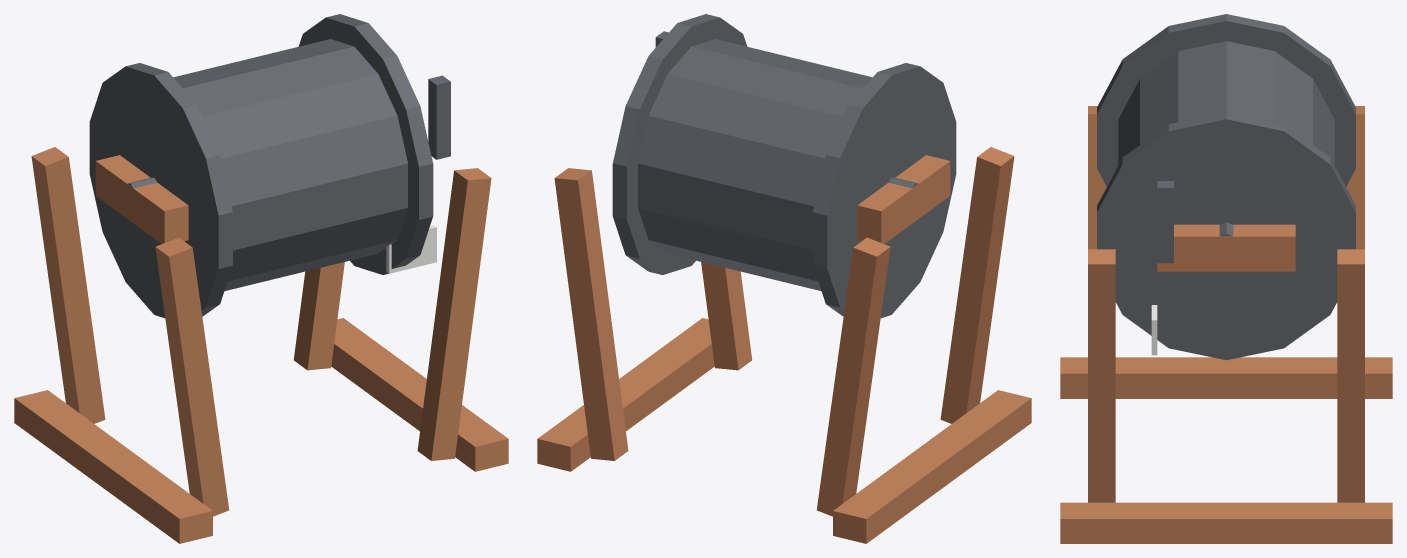
Rendered from shipyard-and-dry-dock-shipyard-and-dry-dock-cable-reel-6d1adec5__37952.glb.
3 renders of one model, left to right at view 1: azimuth 30°, elevation 25°; view 2: azimuth 150°, elevation 25°; view 3: azimuth 270°, elevation 25°, orthographic.
Parts seen in each view (by area): view 1: reel-drum, shipyard-and-dry-dock-cable-reel-stand; view 2: reel-drum, shipyard-and-dry-dock-cable-reel-stand; view 3: reel-drum, shipyard-and-dry-dock-cable-reel-stand.
Part boxes in pixels (left/top/right/bottom): reel-drum: left=89, top=14, right=450, bottom=318; shipyard-and-dry-dock-cable-reel-stand: left=14, top=147, right=508, bottom=543; reel-drum: left=612, top=14, right=956, bottom=318; shipyard-and-dry-dock-cable-reel-stand: left=537, top=147, right=1031, bottom=543; reel-drum: left=1097, top=14, right=1355, bottom=360; shipyard-and-dry-dock-cable-reel-stand: left=1060, top=106, right=1392, bottom=543.
Bounding box in the file's own units: 1.38 × 1.58 × 1.2.
